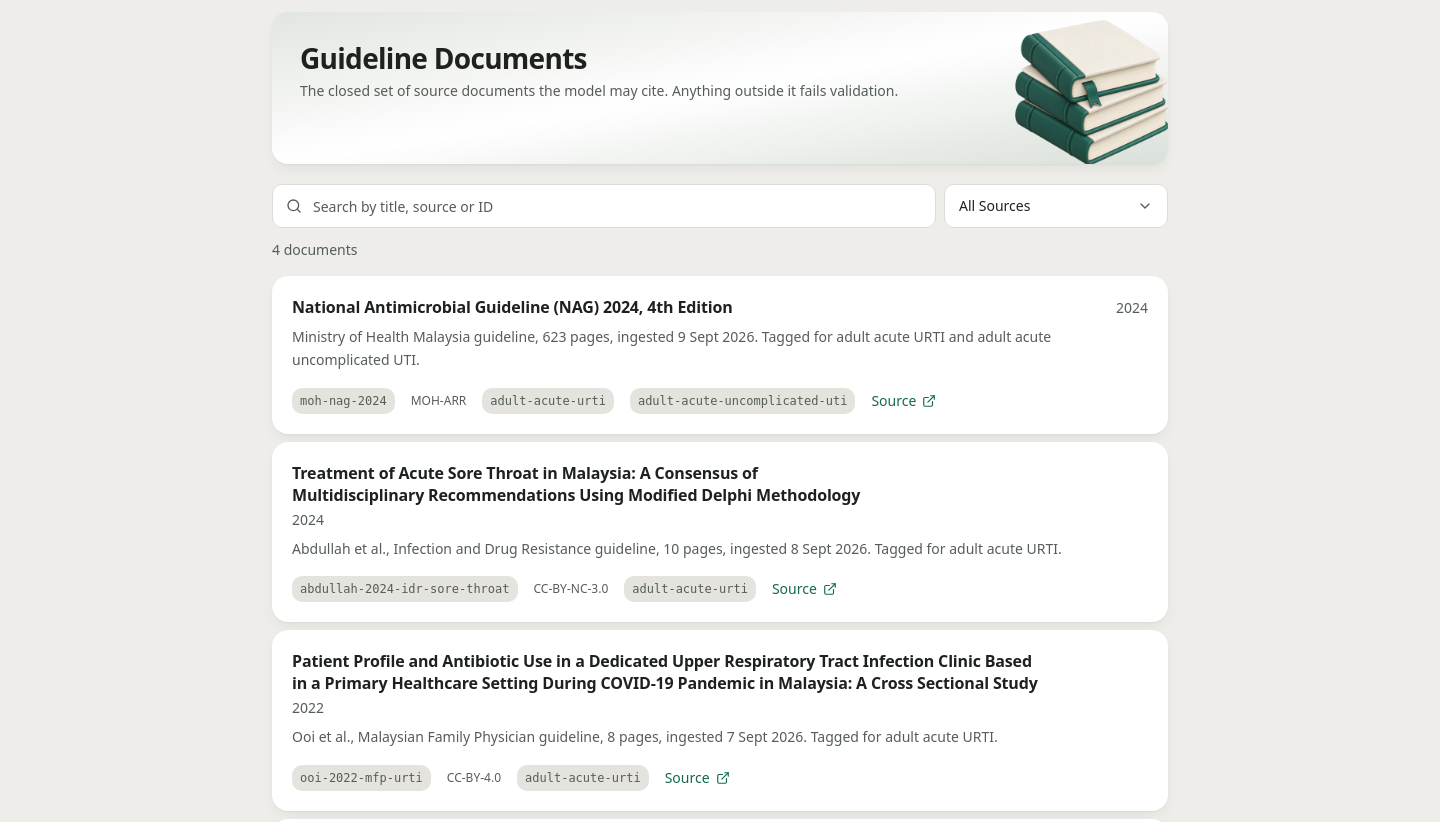
it: the document list › filters to only Abdullah et al., Infection and Drug Resistance documents
Check: the heading "National Antimicrobial Guideline (NAG) 2024, 4th Edition" is shown, box [292,296,732,318]
What coordinates should you click on to do the following:
click the button named "Filter by source"
I would click on:
 (1056, 206)
Its box is [944,184,1168,228].
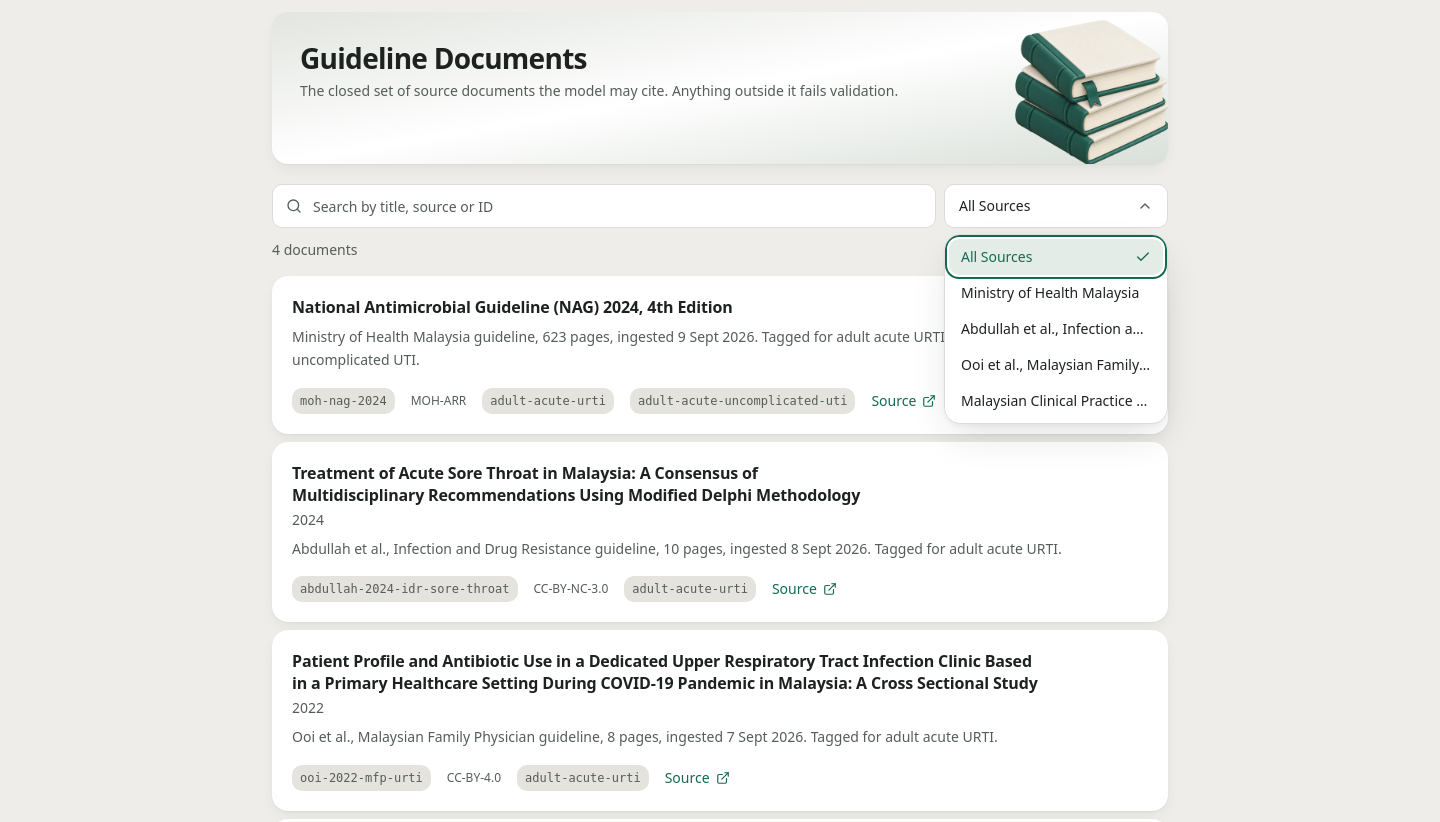
What coordinates should you click on to do the following:
click the option "Abdullah et al., Infection and Drug Resistance"
I would click on:
 (1111, 328)
Its box is [961,319,1260,338].
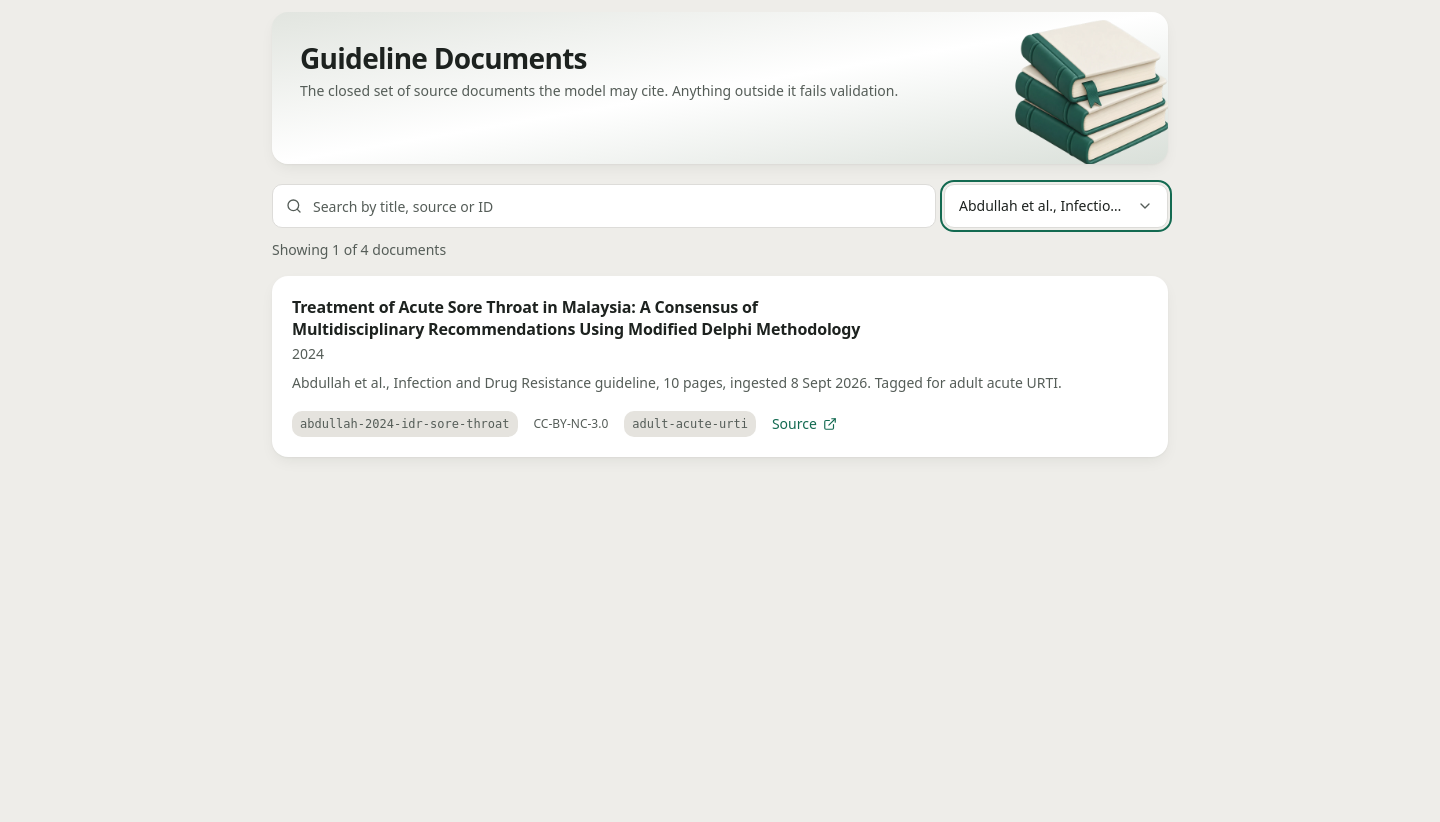
Check: the heading "Treatment of Acute Sore Throat in Malaysia: A Consensus of Multidisciplinary Recommendations Using Modified Delphi Metho" is shown, box [292,296,860,340]
Check: the heading "National Antimicrobial Guideline (NAG) 2024, 4th Edition" is gone
Check: the heading "Patient Profile and Antibiotic Use in a Dedicated Upper Respiratory Tract Infection Clinic Based in a Primary Healthcare" is gone
